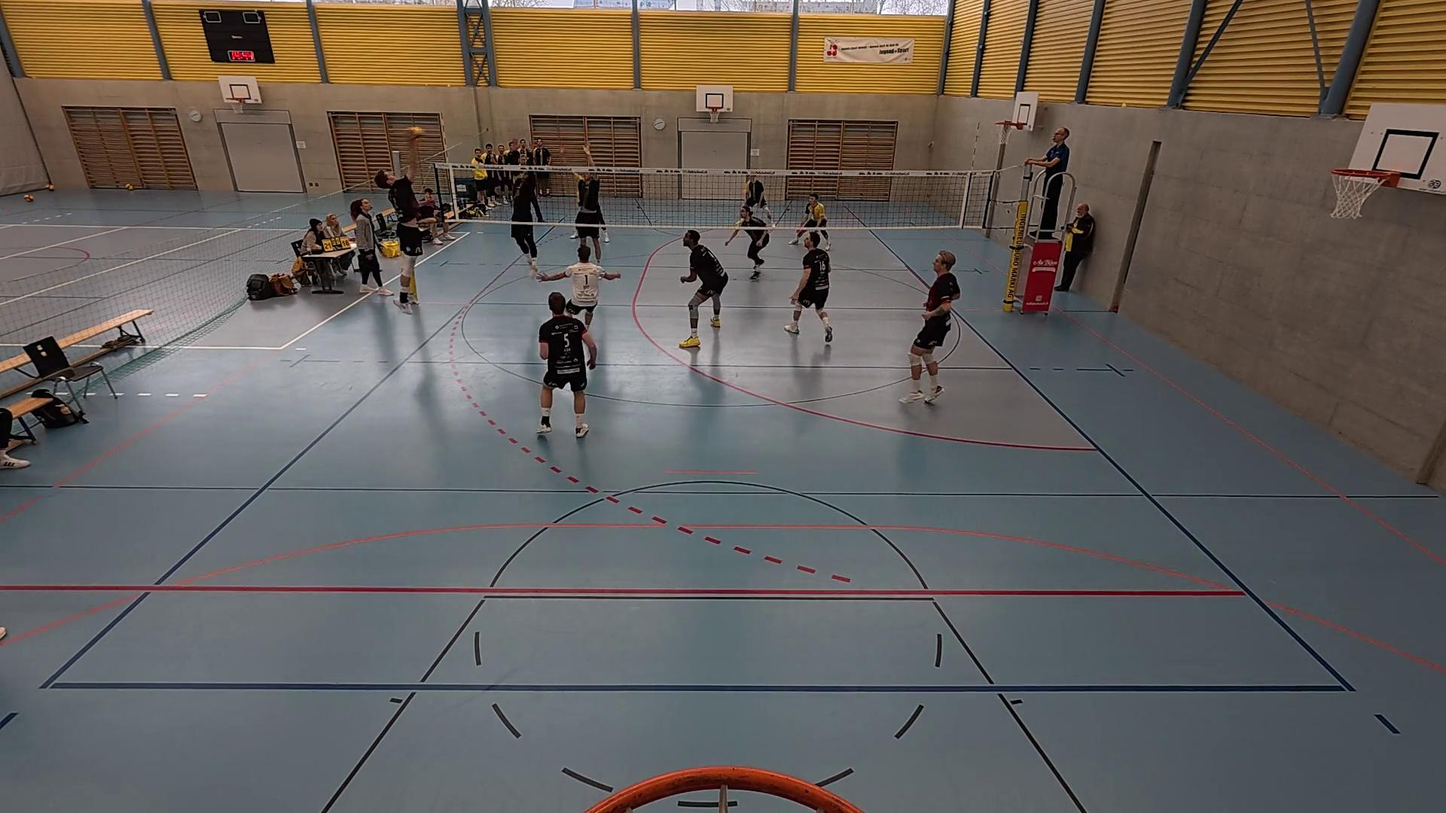Attack: (368, 141, 435, 306)
Block: (505, 148, 548, 280), (568, 139, 607, 272)
Player: (536, 291, 597, 438), (537, 243, 621, 343), (905, 251, 960, 403), (679, 230, 728, 349), (786, 229, 833, 342), (727, 200, 772, 282), (568, 173, 610, 243), (792, 193, 828, 251), (741, 172, 769, 221)
ball: (407, 126, 423, 138)
